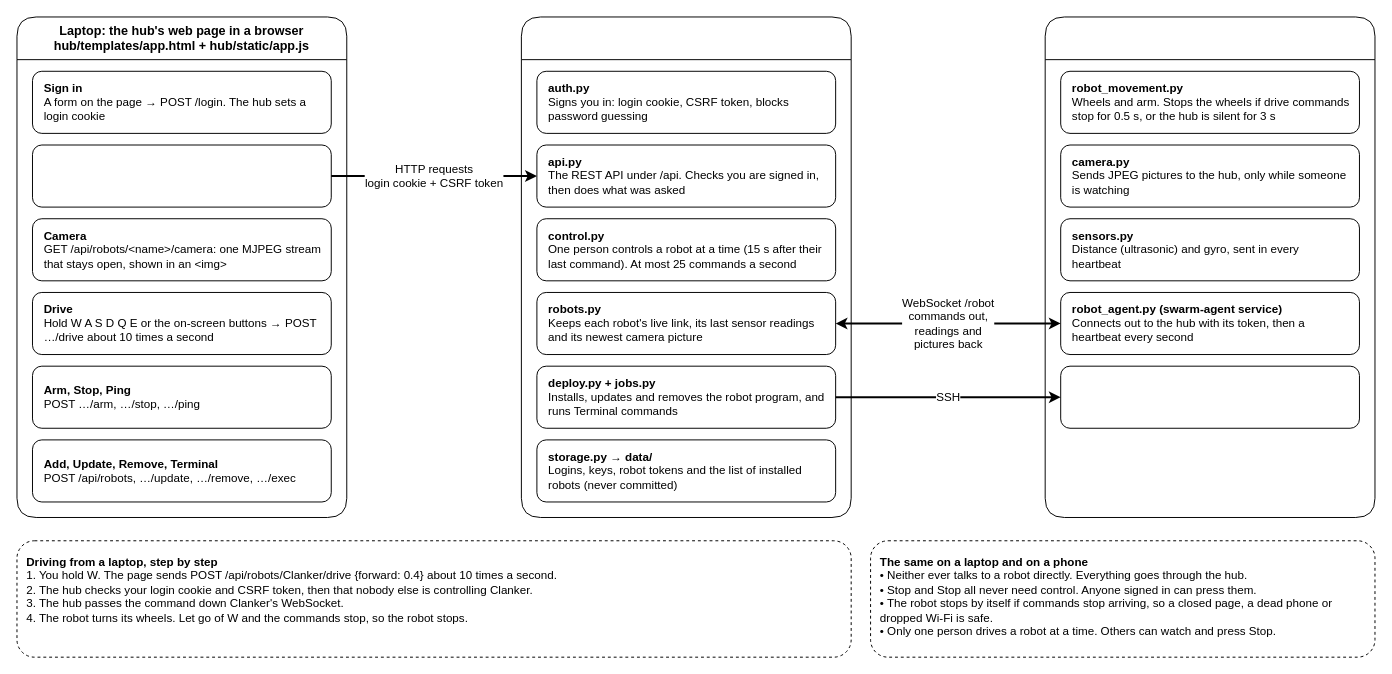
This 1392x674 diagram has some shape labels left out. The box of each missing label's shape, as (x1, y1, x2, y2) in pixels:
Hub: python -m hub (Flask) on a computer in the lab, port 8000: (520, 16, 851, 517)
Robot list GET /api/robots every second: (32, 144, 331, 207)
Robot: Raspberry Pi on a MasterPi chassis one of up to 4, each with its own link: (1044, 16, 1375, 517)
SSH (the robot's Linux) How the hub gets in to install and for the Terminal: (1060, 365, 1359, 428)
